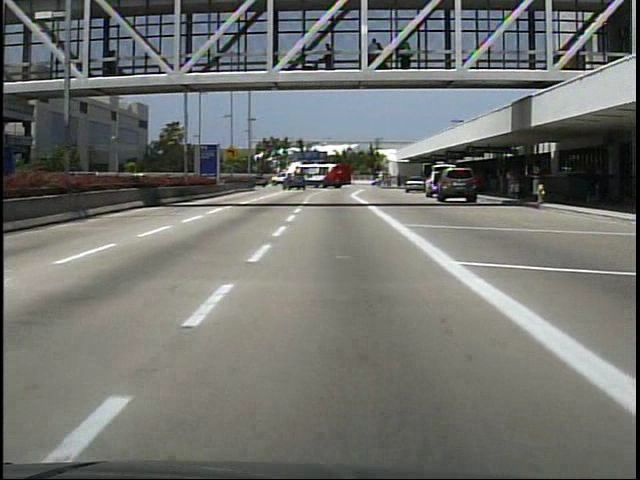person: (104, 47, 128, 81), (506, 164, 526, 202), (318, 41, 340, 74)
